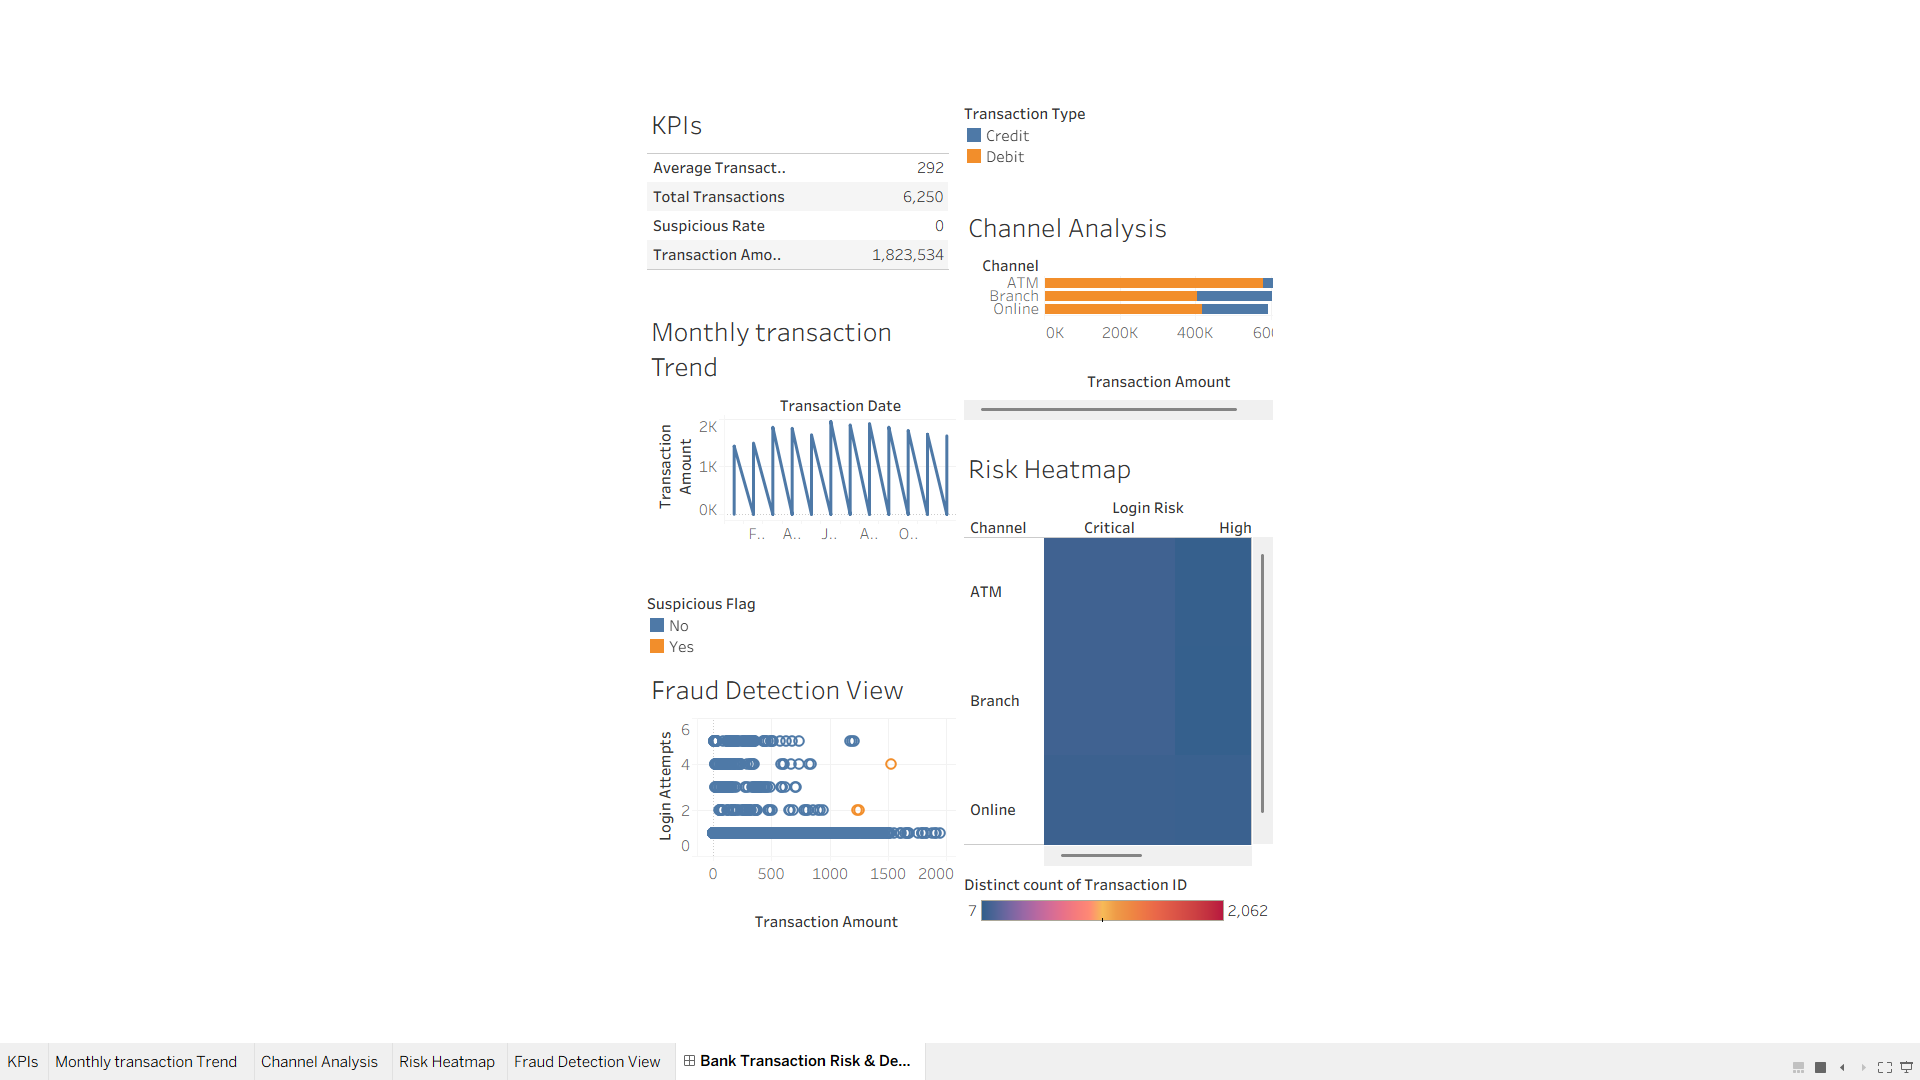

Layout of this report page (visuals, bound fields, positions):
{"tool":"tableau","page":{"name":"Bank Transaction Risk & Decision Dashboard","canvas":[650,860],"ordinal":0},"visuals":[{"type":"worksheet","title":"KPIs","mark":"Automatic","box":[8,8.1,317,206.9]},{"type":"legend","title":"Channel Analysis","param":"[federated.05ojd9w156lecn15m4qx41jik8hk].[none:TransactionType:nk]","box":[325,8.1,317,102.9]},{"type":"worksheet","title":"Channel Analysis","mark":"Automatic","rows":["Channel"],"cols":["TransactionAmount"],"box":[325,111,317,241.2]},{"type":"worksheet","title":"Monthly transaction Trend","mark":"Line","rows":["TransactionAmount"],"cols":["TransactionDate"],"box":[8,215,317,282.6]},{"type":"worksheet","title":"Risk Heatmap","mark":"Automatic","rows":["Channel"],"cols":["Calculation_1638057510047746"],"box":[325,352.3,317,426]},{"type":"legend","title":"Fraud Detection View","param":"[federated.05ojd9w156lecn15m4qx41jik8hk].[none:Calculation_1638057509847041:nk]","box":[8,497.6,317,75.7]},{"type":"worksheet","title":"Fraud Detection View","mark":"Automatic","rows":["LoginAttempts"],"cols":["TransactionAmount"],"box":[8,573.3,317,278.6]},{"type":"legend","title":"Risk Heatmap","param":"[federated.05ojd9w156lecn15m4qx41jik8hk].[ctd:TransactionID:qk]","box":[325,778.2,317,73.7]}]}

Visuals, with their boxes on the page's 650x860 design canvas (x1, y1, x2, y2). These are canvas units, not pixel positions in the 1920x1080 screenshot, which may show the page scaled, cropped or inside an application window:
"KPIs" worksheet: BBox(8, 8, 325, 215)
"Channel Analysis" legend: BBox(325, 8, 642, 111)
"Channel Analysis" worksheet: BBox(325, 111, 642, 352)
"Monthly transaction Trend" worksheet (Line marks): BBox(8, 215, 325, 498)
"Risk Heatmap" worksheet: BBox(325, 352, 642, 778)
"Fraud Detection View" legend: BBox(8, 498, 325, 573)
"Fraud Detection View" worksheet: BBox(8, 573, 325, 852)
"Risk Heatmap" legend: BBox(325, 778, 642, 852)
